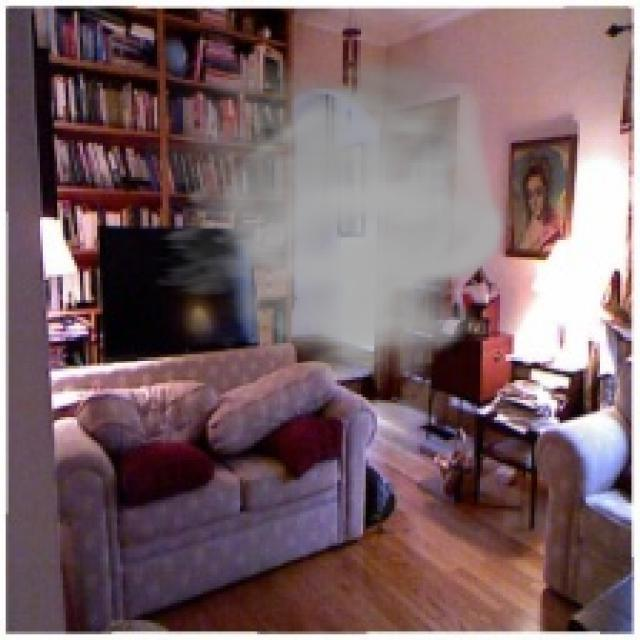Smoke: (117, 37, 512, 383)
